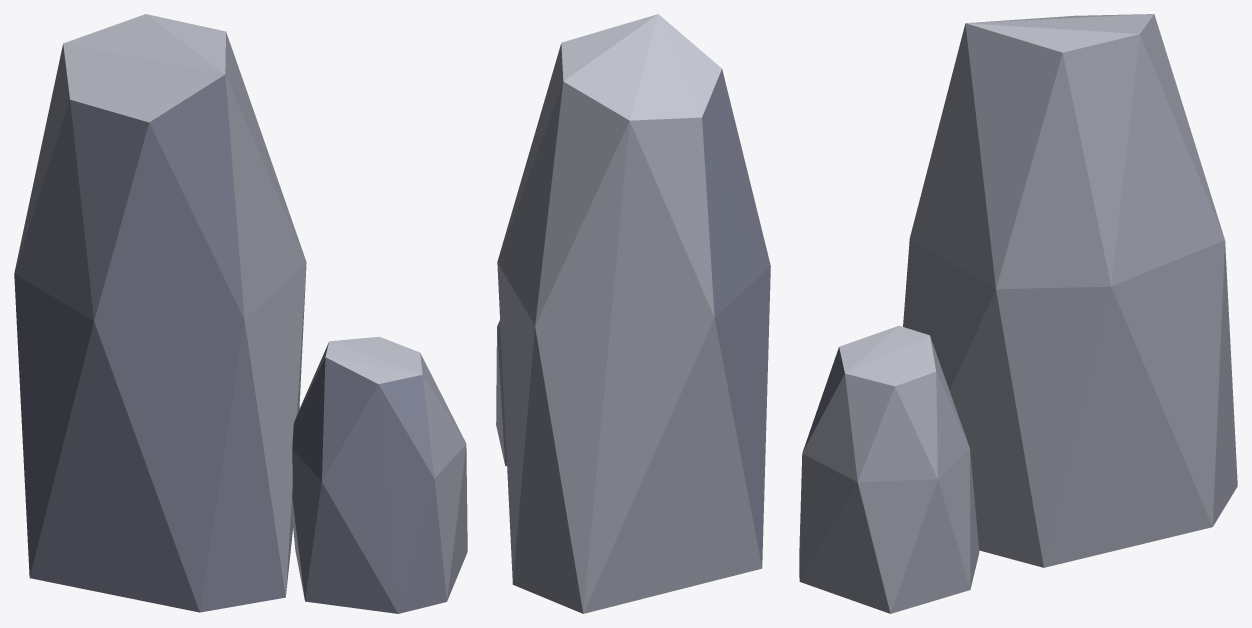
File: stone_tallH.glb
3 renders of one model, left to right at view 1: azimuth 30°, elevation 25°; view 2: azimuth 150°, elevation 25°; view 3: azimuth 270°, elevation 25°, orthographic. The views are drawn at different scales.
Visible parts, largest first — view 1: stone_tallH; view 2: stone_tallH; view 3: stone_tallH.
Part boxes in pixels (x1,y1,x2,y2): stone_tallH: (14,14,467,613); stone_tallH: (496,14,770,613); stone_tallH: (799,14,1237,613).
Bounding box in the file's own units: 0.5249 × 0.7047 × 0.5688.
Materials: 1 (1 with a texture image).
